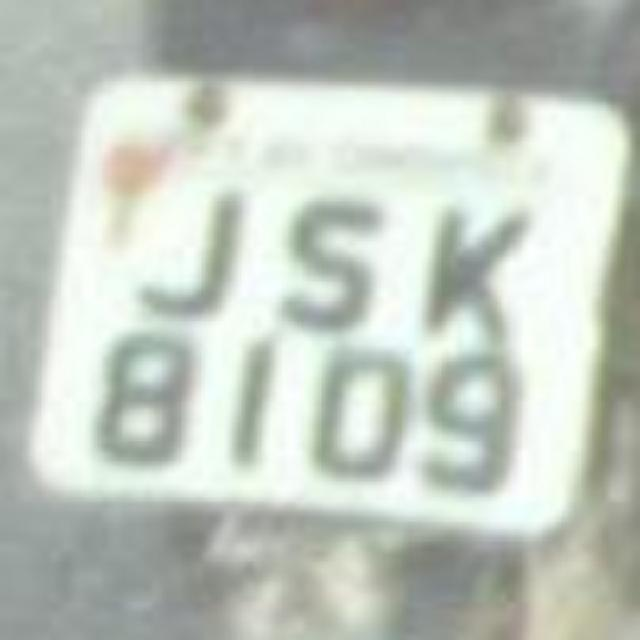0: (300, 320, 420, 495)
1: (220, 332, 295, 480)
9: (412, 328, 536, 500)
B: (84, 312, 208, 488)
J: (104, 164, 251, 331)
K: (392, 176, 536, 352)
S: (260, 185, 388, 340)
